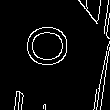O_E: (30, 31, 80, 74)
